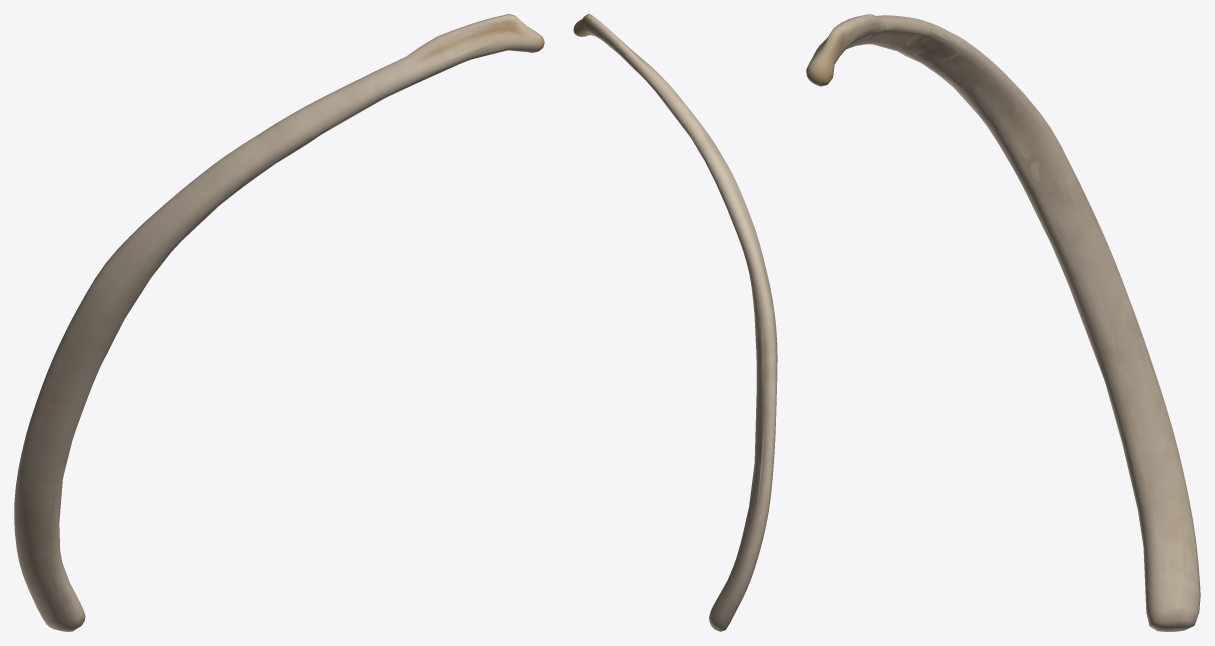
The model's file is Rib R12.fbx.
The picture shows the model from 3 angles, left to right: view 1: azimuth 30°, elevation 25°; view 2: azimuth 150°, elevation 25°; view 3: azimuth 270°, elevation 25°; orthographic projection. The views are drawn at different scales.
Parts seen in each view (by area): view 1: Rib R12, Rib R12 low; view 2: Rib R12, Rib R12 low; view 3: Rib R12 low, Rib R12.
Boxes of the visible parts, bbox=[...] form: Rib R12: bbox=[14, 14, 544, 631]; Rib R12 low: bbox=[28, 15, 542, 631]; Rib R12: bbox=[573, 14, 777, 631]; Rib R12 low: bbox=[575, 16, 777, 631]; Rib R12 low: bbox=[808, 18, 1199, 631]; Rib R12: bbox=[806, 14, 1200, 631].
Size of the model in its own units: 25.94 by 40.67 by 18.35.
1 material, 1 textured.
